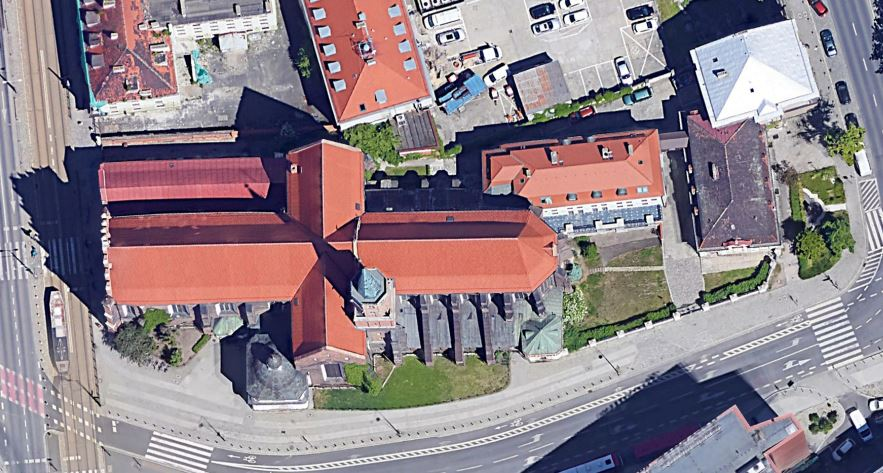block of flats: (680, 16, 816, 257), (71, 1, 283, 120), (472, 121, 669, 223), (296, 1, 432, 132)
church: (93, 142, 576, 405)
